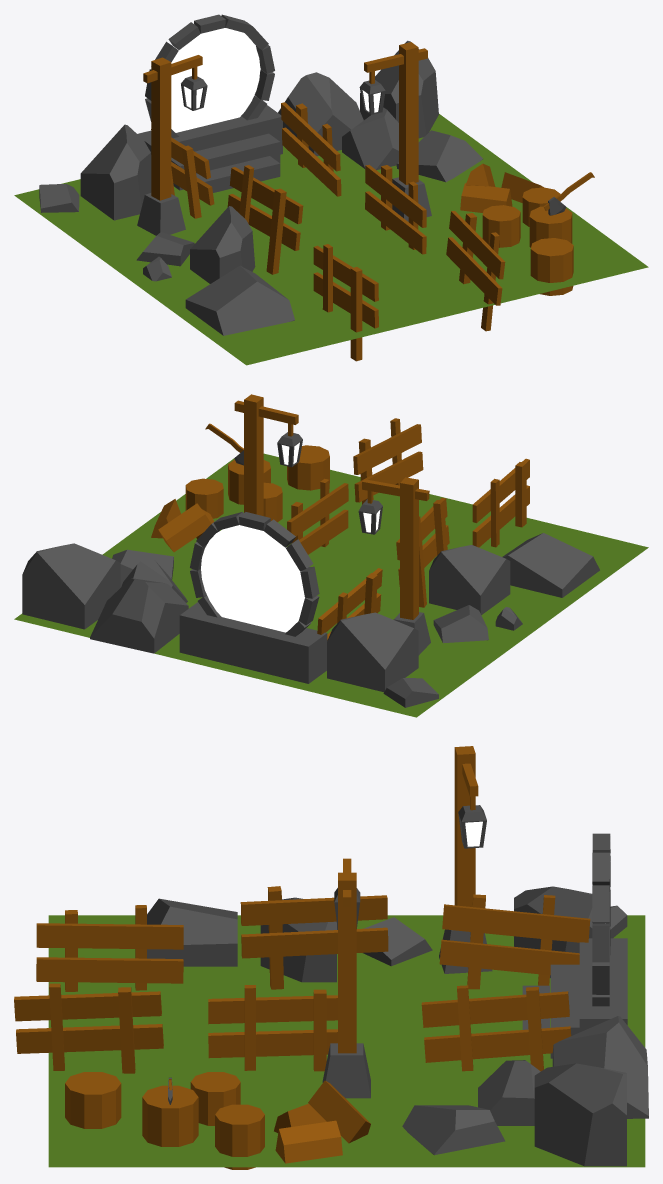
Rendered from portal2.glb.
The picture shows the model from 3 angles, top to bottom: view 1: azimuth 30°, elevation 25°; view 2: azimuth 150°, elevation 25°; view 3: azimuth 270°, elevation 25°; orthographic projection. The views are drawn at different scales.
Parts seen in each view (by area): view 1: Plane, Circle, Cube.021, Cube.029, Cube.005, Cube.004, Cube.013, Cube.003, Cube.009, Cube.030, Cube.026, Cube.002 (+20 smaller); view 2: Plane, Circle, Cube.042, Cube.025, Cube.021, Cube.026, Cube.030, Cube.029, Cube.013, Cube.003, Cube.004, Cube.009 (+19 smaller); view 3: Plane, Cube.025, Cube.003, Cube.001, Cube.004, Cube.006, Cube.002, Cube.005, Cube.026, Cube.029, Cube.024, Cube.009 (+20 smaller).
Boxes of the visible parts, <box> form: Plane: <box>14,114,648,365</box>; Circle: <box>171,28,260,132</box>; Cube.021: <box>80,124,151,220</box>; Cube.029: <box>185,265,294,335</box>; Cube.005: <box>227,165,303,274</box>; Cube.004: <box>313,244,378,361</box>; Cube.013: <box>143,55,202,200</box>; Cube.003: <box>446,211,505,331</box>; Cube.009: <box>364,42,427,184</box>; Cube.030: <box>190,206,255,283</box>; Cube.026: <box>278,72,363,156</box>; Cube.002: <box>365,164,426,254</box>; Plane: <box>14,453,648,717</box>; Circle: <box>201,525,304,632</box>; Cube.042: <box>179,602,327,683</box>; Cube.025: <box>22,543,120,629</box>; Cube.021: <box>327,612,418,692</box>; Cube.026: <box>90,578,188,653</box>; Cube.030: <box>429,545,510,614</box>; Cube.029: <box>502,533,599,597</box>; Cube.013: <box>362,477,429,619</box>; Cube.003: <box>353,418,423,504</box>; Cube.004: <box>472,458,529,547</box>; Cube.009: <box>234,394,298,515</box>; Plane: <box>48,915,645,1167</box>; Cube.025: <box>534,1063,626,1166</box>; Cube.003: <box>14,983,163,1073</box>; Cube.001: <box>421,985,571,1071</box>; Cube.004: <box>36,905,183,991</box>; Cube.006: <box>439,894,590,989</box>; Cube.002: <box>208,985,337,1071</box>; Cube.005: <box>240,886,388,989</box>; Cube.026: <box>552,1016,648,1118</box>; Cube.029: <box>147,898,237,966</box>; Cube.024: <box>402,1105,505,1155</box>; Cube.009: <box>338,858,356,1053</box>.
Bounding box in the file's own units: 9.62 × 4.55 × 10.24.
